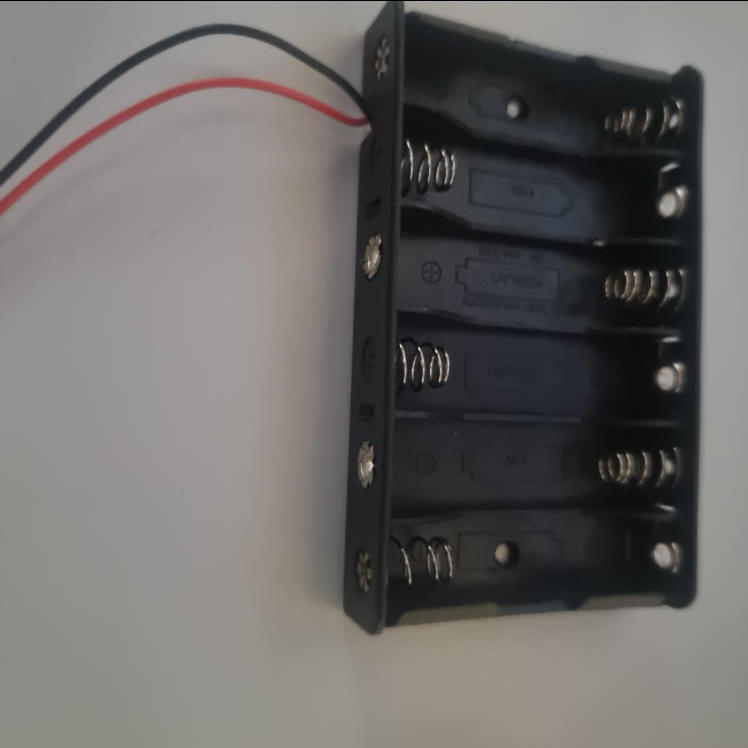BATTERY BOX: (344, 0, 705, 632)
